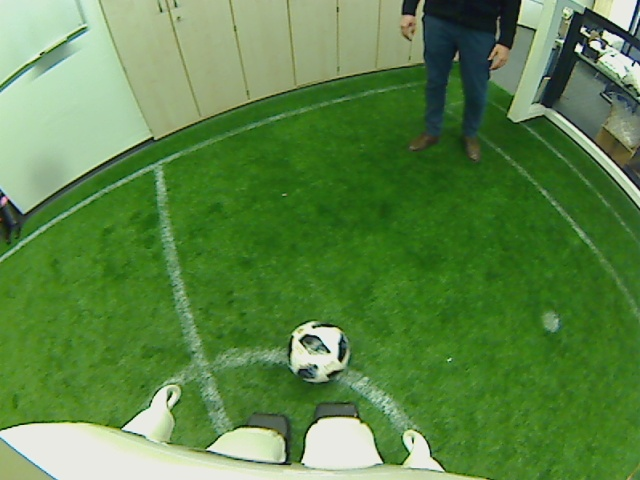ball: (285, 322, 351, 383)
